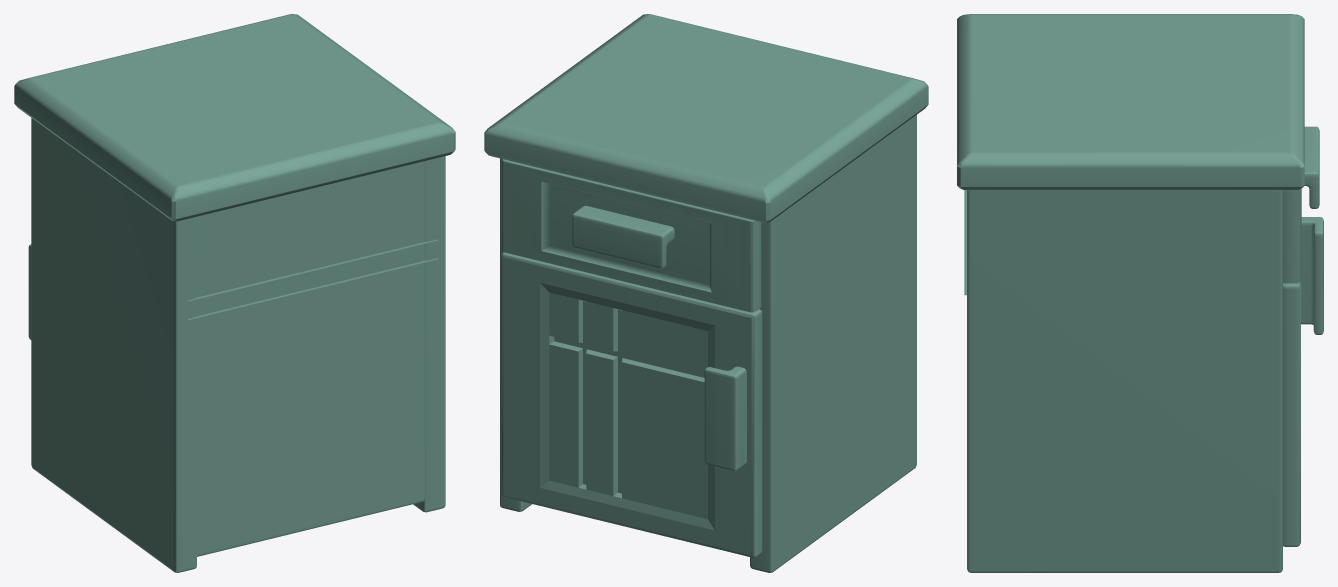
The model's file is Bedside_table__uv.FBX.
3 views of the same model, side by side, from view 1: azimuth 30°, elevation 25°; view 2: azimuth 150°, elevation 25°; view 3: azimuth 270°, elevation 25° (orthographic). The views are drawn at different scales.
Parts seen in each view (by area): view 1: pCube10; view 2: pCube10; view 3: pCube10.
Part boxes in pixels (<box>): pCube10: <box>14,14,455,572</box>; pCube10: <box>484,14,928,572</box>; pCube10: <box>957,14,1323,572</box>.
Size of the model in its own units: 0.7706 by 1 by 0.7953.
